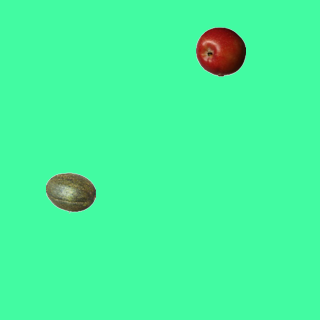Apple Braeburn: (195, 26, 245, 76)
Melon Piel de Sapo: (45, 167, 95, 217)
